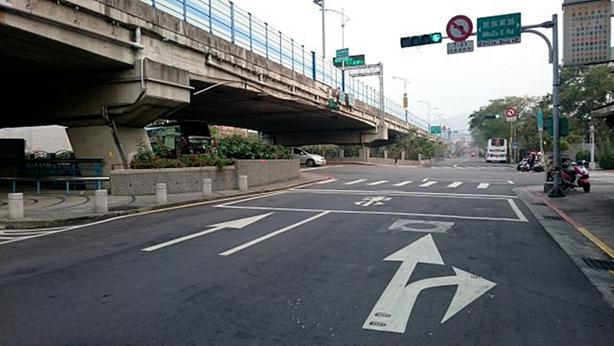green_traffic_light: (410, 32, 441, 44)
no_left_turn: (445, 14, 472, 40)
